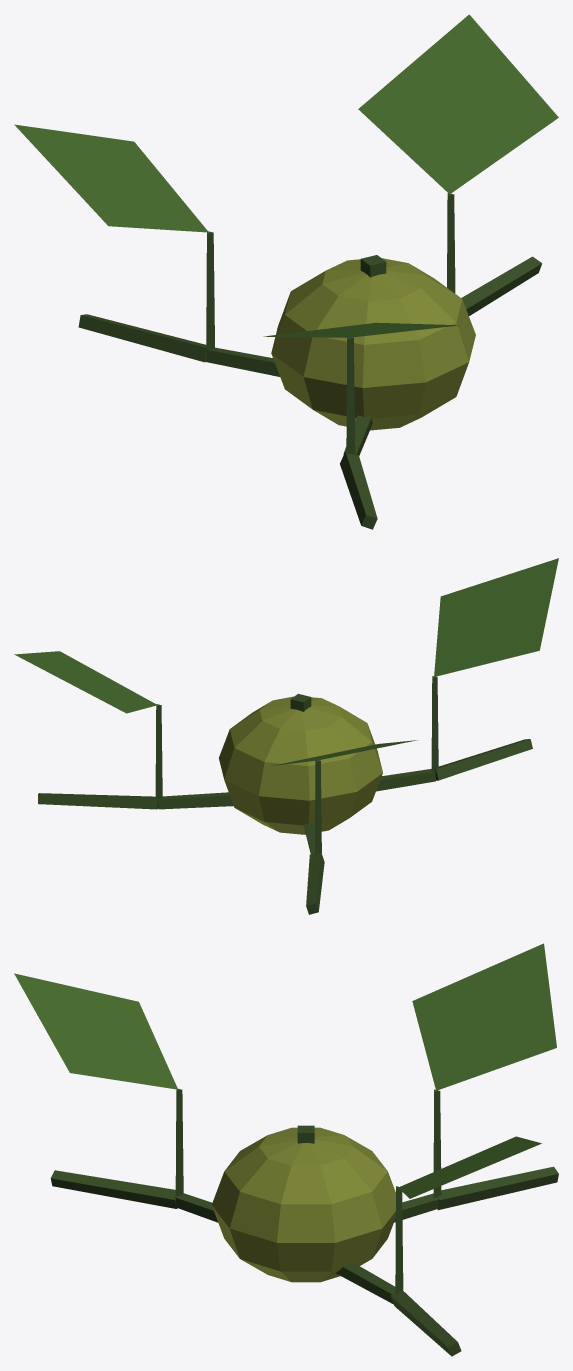
Rendered from crop_pumpkin_stage2.glb.
3 views of the same model, one above another, from view 1: azimuth 30°, elevation 25°; view 2: azimuth 150°, elevation 25°; view 3: azimuth 270°, elevation 25° (orthographic). The views are drawn at different scales.
Visible parts, largest first — view 1: Crop; view 2: Crop; view 3: Crop.
Part boxes in pixels (x1,y1,x2,y2): Crop: (14, 14, 558, 529); Crop: (14, 558, 558, 914); Crop: (14, 943, 558, 1356).
Size of the model in its own units: 0.7341 by 0.3738 by 0.8077.
